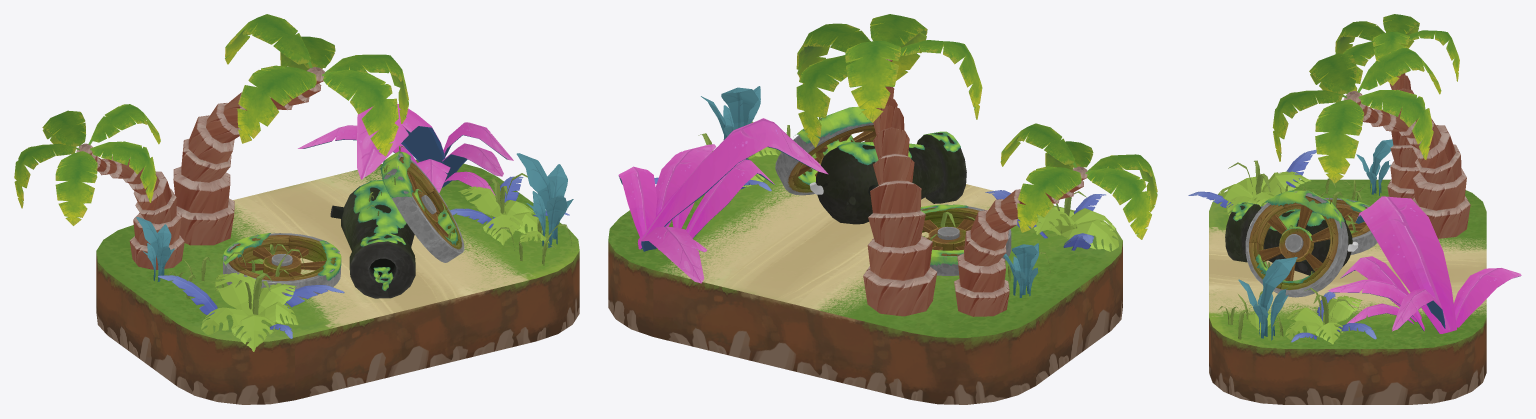
The picture shows the model from 3 angles, left to right: view 1: azimuth 30°, elevation 25°; view 2: azimuth 150°, elevation 25°; view 3: azimuth 270°, elevation 25°; orthographic projection. The views are drawn at different scales.
Parts seen in each view (by area): view 1: Ground_88, Cannon_2, Palm Leaf_90, Palm Leaf.006_96, Palm Leaf.005_95, Palm Leaf.004_94, Cannon.002_4, Plant Leaf.005_106, Palm Leaf.009_99, Palm Leaf.001_91, Plane.018_25, Palm Leaf.008_98 (+24 smaller); view 2: Ground_88, Palm Leaf_90, Cannon_2, Palm Leaf.006_96, Plant Leaf.005_106, Palm Leaf.001_91, Palm Leaf.002_92, Palm Leaf.011_101, Palm Leaf.010_100, Plant Leaf.006_107, Plant Leaf.003_104, Palm Leaf.003_93 (+14 smaller); view 3: Ground_88, Plant Leaf.005_106, Palm Leaf_90, Cannon.002_4, Cannon_2, Palm Leaf.003_93, Palm Leaf.002_92, Palm Leaf.006_96, Plant Leaf.003_104, Palm Leaf.001_91, Palm Leaf.004_94, Palm Leaf.005_95 (+22 smaller).
Part boxes in pixels (box(x1,y1,x2,y2)): Ground_88: box(96, 159, 579, 404); Cannon_2: box(223, 186, 415, 298); Palm Leaf_90: box(173, 67, 324, 245); Palm Leaf.006_96: box(76, 143, 184, 270); Palm Leaf.005_95: box(237, 65, 316, 143); Palm Leaf.004_94: box(322, 69, 398, 156); Cannon.002_4: box(384, 153, 464, 262); Plant Leaf.005_106: box(357, 104, 445, 179); Palm Leaf.009_99: box(55, 151, 97, 225); Palm Leaf.001_91: box(225, 14, 312, 68); Plane.018_25: box(353, 180, 406, 233); Palm Leaf.008_98: box(90, 141, 156, 202); Ground_88: box(608, 149, 1122, 404); Palm Leaf_90: box(863, 59, 937, 316); Cannon_2: box(809, 133, 1011, 275); Palm Leaf.006_96: box(954, 166, 1087, 316); Plant Leaf.005_106: box(637, 118, 828, 249); Palm Leaf.001_91: box(845, 41, 901, 122); Palm Leaf.002_92: box(796, 55, 856, 147); Palm Leaf.011_101: box(1017, 166, 1081, 232); Palm Leaf.010_100: box(1085, 168, 1151, 239); Plant Leaf.006_107: box(686, 159, 774, 238); Plant Leaf.003_104: box(641, 226, 704, 283); Palm Leaf.003_93: box(796, 23, 870, 83); Ground_88: box(1209, 179, 1486, 404); Plant Leaf.005_106: box(1355, 196, 1456, 333); Palm Leaf_90: box(1343, 91, 1470, 238); Cannon.002_4: box(1245, 191, 1348, 297); Cannon_2: box(1225, 198, 1377, 275); Palm Leaf.003_93: box(1315, 99, 1364, 183); Palm Leaf.002_92: box(1358, 89, 1433, 159); Palm Leaf.006_96: box(1387, 43, 1419, 199); Plant Leaf.003_104: box(1453, 268, 1521, 327); Palm Leaf.001_91: box(1357, 48, 1441, 94); Palm Leaf.004_94: box(1272, 90, 1347, 161); Palm Leaf.005_95: box(1309, 53, 1356, 94).
Size of the model in its own units: 16.67 by 8.93 by 10.87.
Materials: 5 (4 with a texture image).
